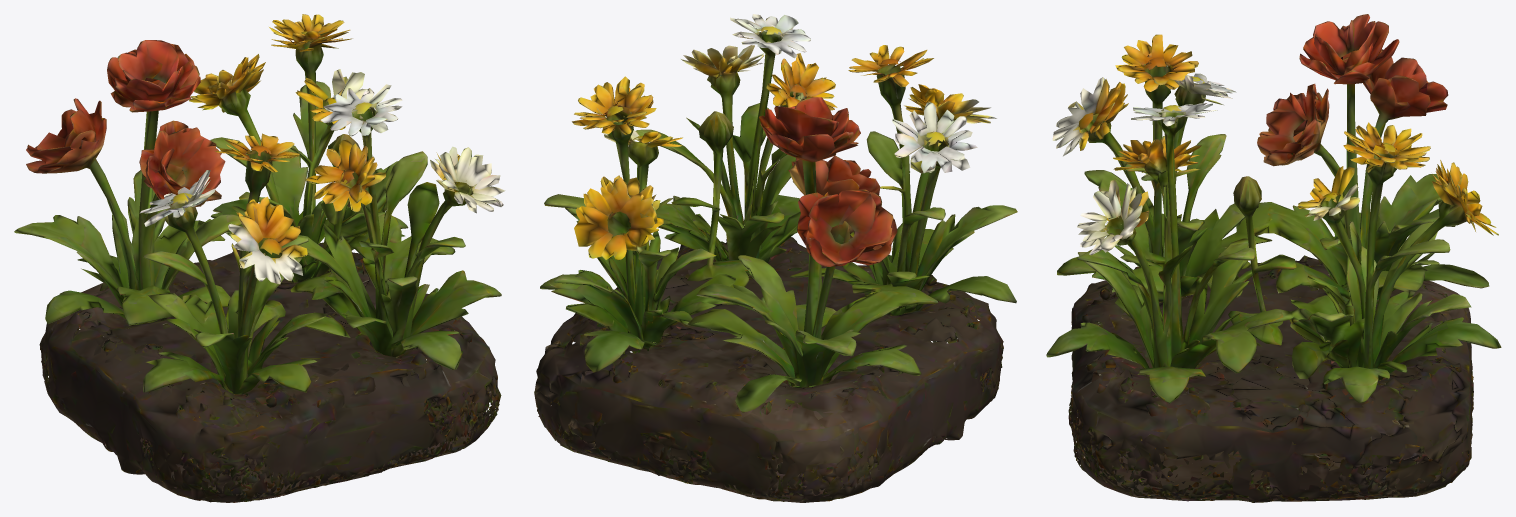
File: nature_flowers_t1_wild.glb
3 renders of one model, left to right at view 1: azimuth 30°, elevation 25°; view 2: azimuth 150°, elevation 25°; view 3: azimuth 270°, elevation 25°, orthographic. The views are drawn at different scales.
Parts seen in each view (by area): view 1: world; view 2: world; view 3: world.
Part boxes in pixels (left/top/right/bottom): world: left=14, top=14, right=505, bottom=502; world: left=534, top=14, right=1017, bottom=502; world: left=1046, top=14, right=1501, bottom=502.
Bounding box in the file's own units: 0.5371 × 0.5 × 0.5583.
1 material, 1 textured.
